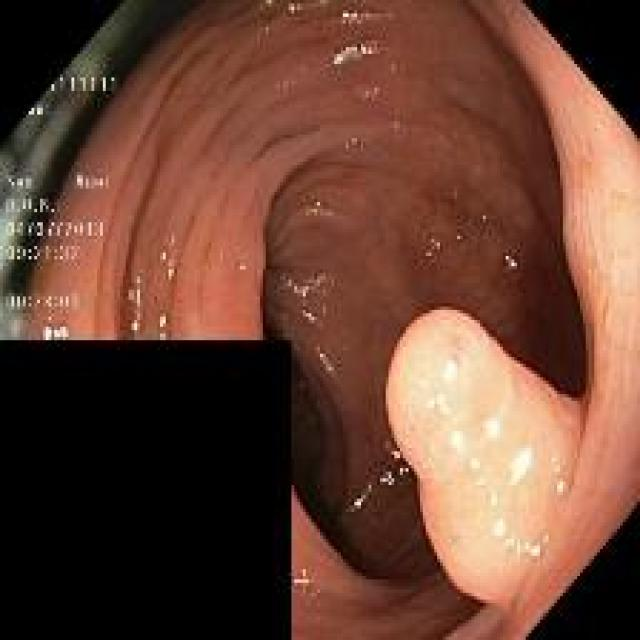Polyps: (386, 311, 579, 606)
